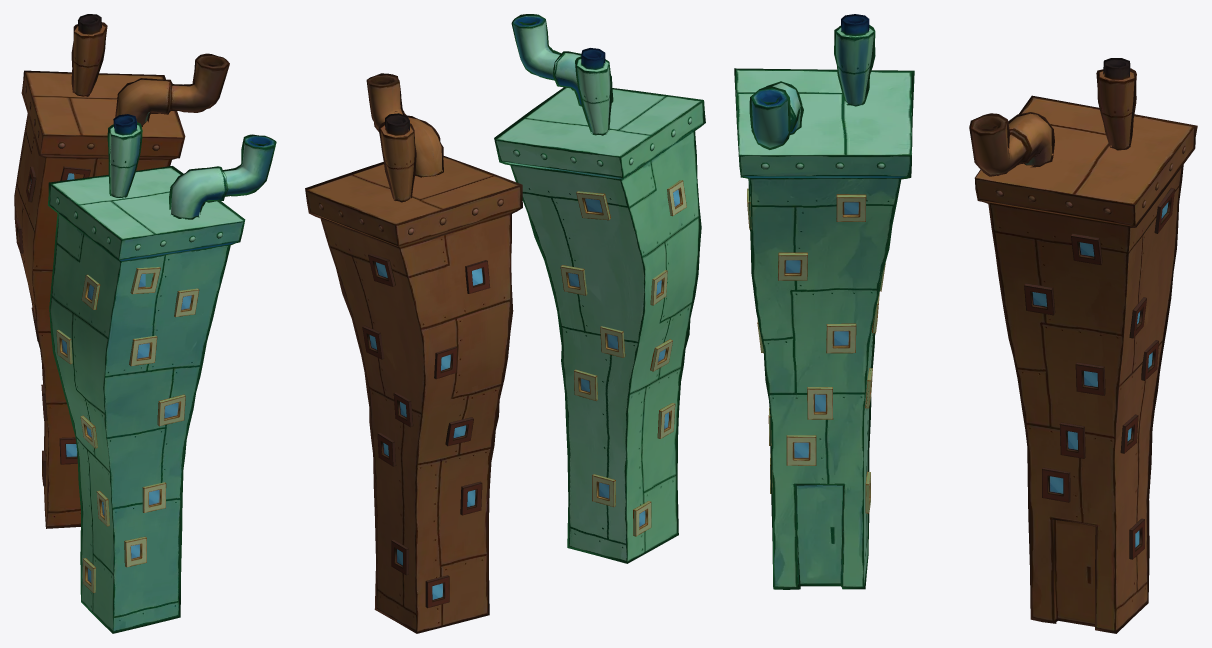
The model's file is downtown-building.glb.
3 views of the same model, side by side, from view 1: azimuth 30°, elevation 25°; view 2: azimuth 150°, elevation 25°; view 3: azimuth 270°, elevation 25° (orthographic). The views are drawn at different scales.
Parts seen in each view (by area): view 1: Object_2, Object_3; view 2: Object_3, Object_2; view 3: Object_3, Object_2.
Part boxes in pixels (box(x1,y1,x2,y2)): Object_2: box(48, 114, 276, 633); Object_3: box(14, 14, 229, 528); Object_3: box(305, 73, 522, 633); Object_2: box(494, 14, 705, 563); Object_3: box(969, 58, 1197, 633); Object_2: box(734, 14, 914, 589).
Size of the model in its own units: 33.19 by 68.08 by 51.11.
Materials: 2 (2 with a texture image).
